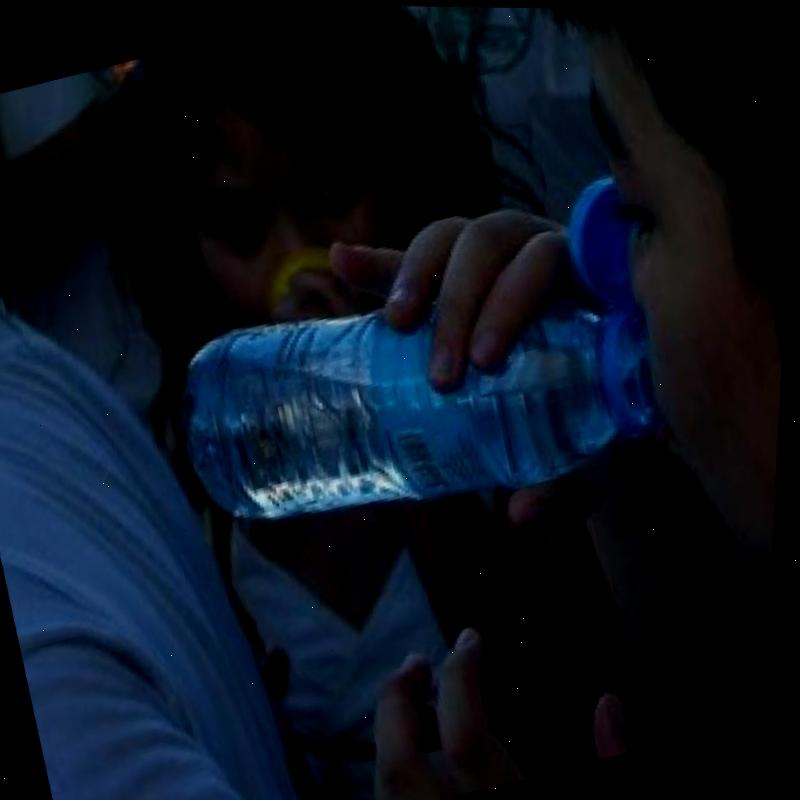botella: (154, 220, 681, 571)
